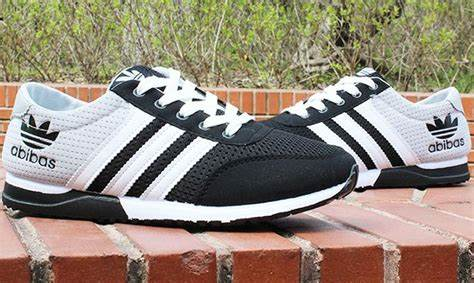adidas Fake: (1, 112, 71, 175), (418, 106, 469, 159)
